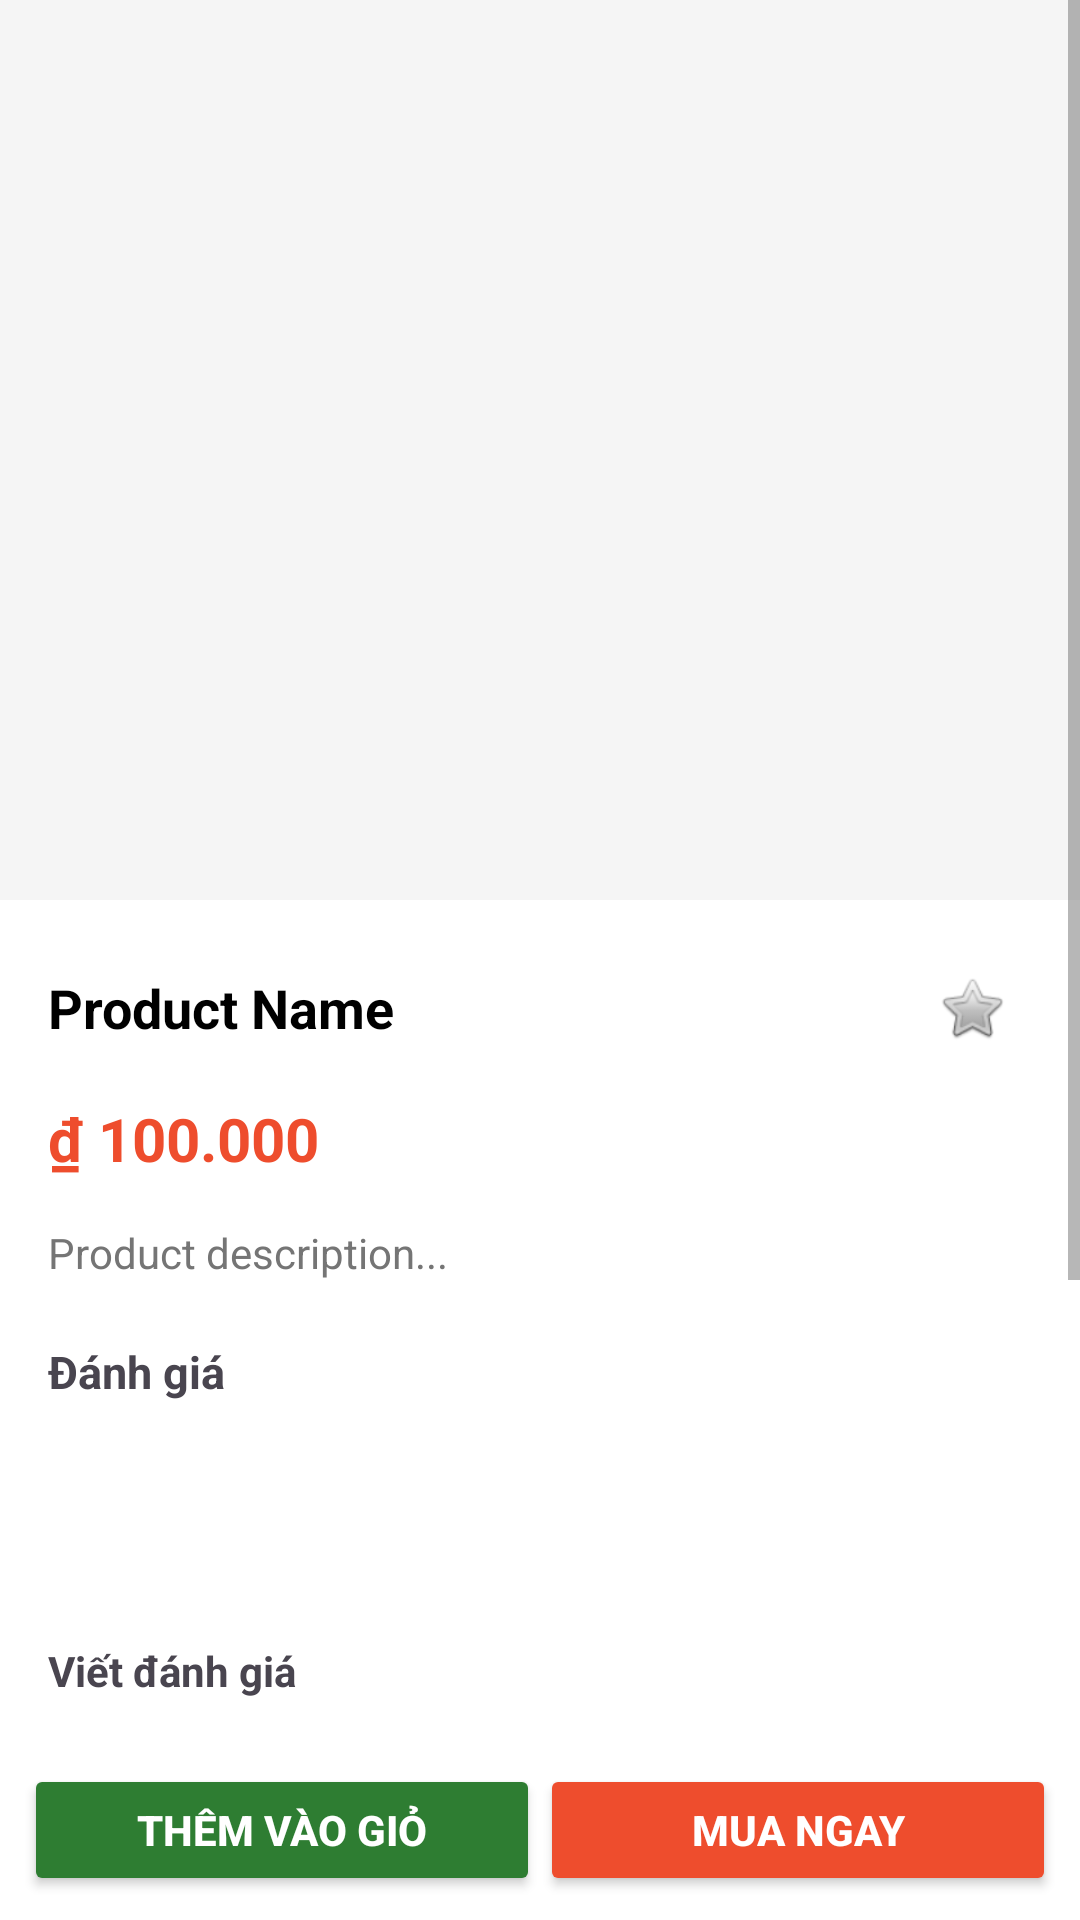

Screen size 1080w x 1920h. Icon name, then its box in pixels as (x1, y1, x2, y2):
Yêu thích: (943, 979, 1003, 1038)
